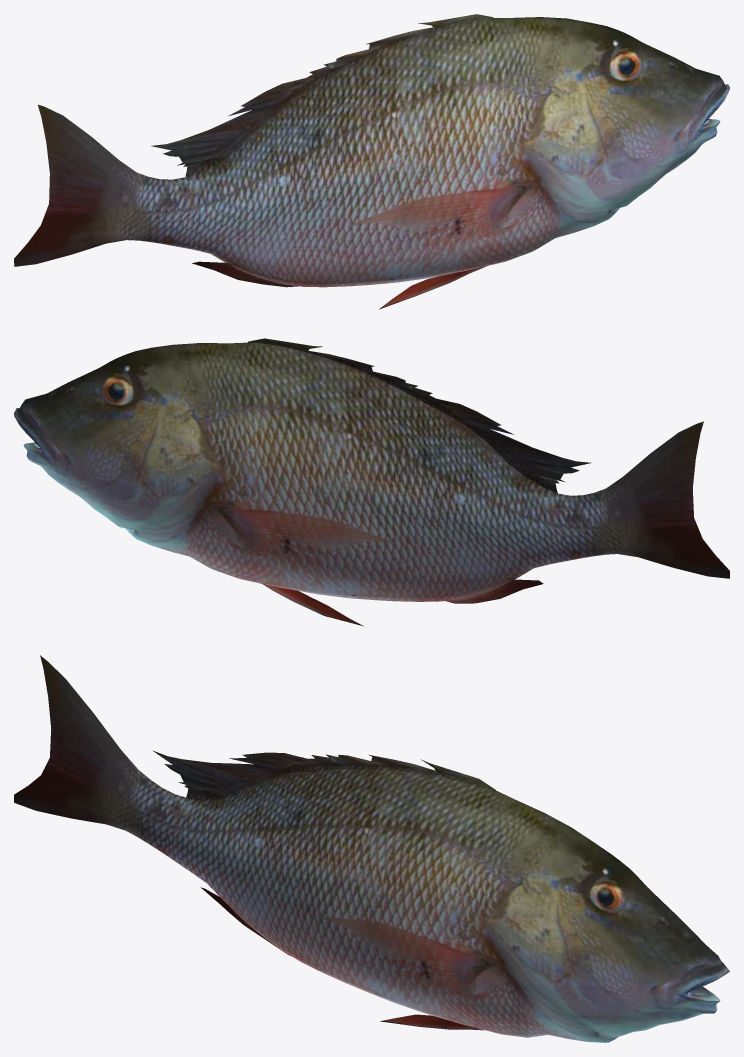
The model's file is fish.glb.
3 renders of one model, top to bottom at view 1: azimuth 30°, elevation 25°; view 2: azimuth 150°, elevation 25°; view 3: azimuth 330°, elevation 25°, orthographic.
Visible parts, largest first — view 1: Line01_02 - Default_0; view 2: Line01_02 - Default_0; view 3: Line01_02 - Default_0.
Boxes of the visible parts, x1,y1,x2,y2 form: Line01_02 - Default_0: (14,14,729,309); Line01_02 - Default_0: (14,338,729,626); Line01_02 - Default_0: (14,655,729,1042).
Bounding box in the file's own units: 12.03 × 4.63 × 1.24.
1 material, 1 textured.
